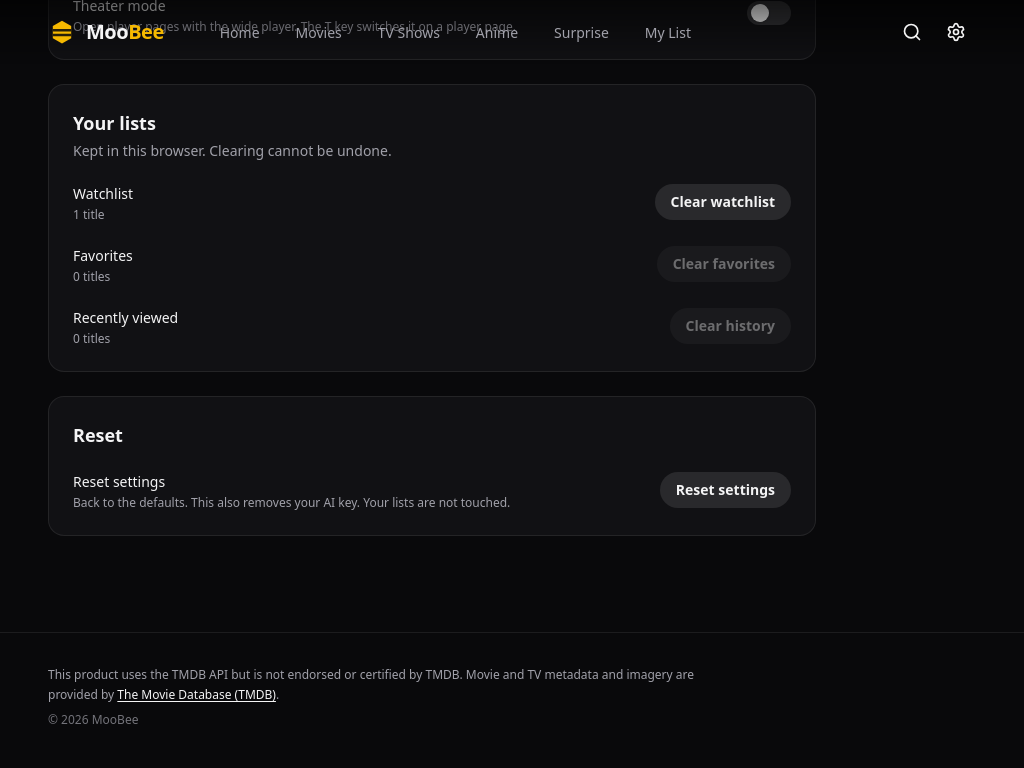
Scenario: Settings page › resets the settings, including the key, but not the lists
(page scrolled)
Click the button "Reset settings" at point(725, 490), box [660, 472, 791, 508]
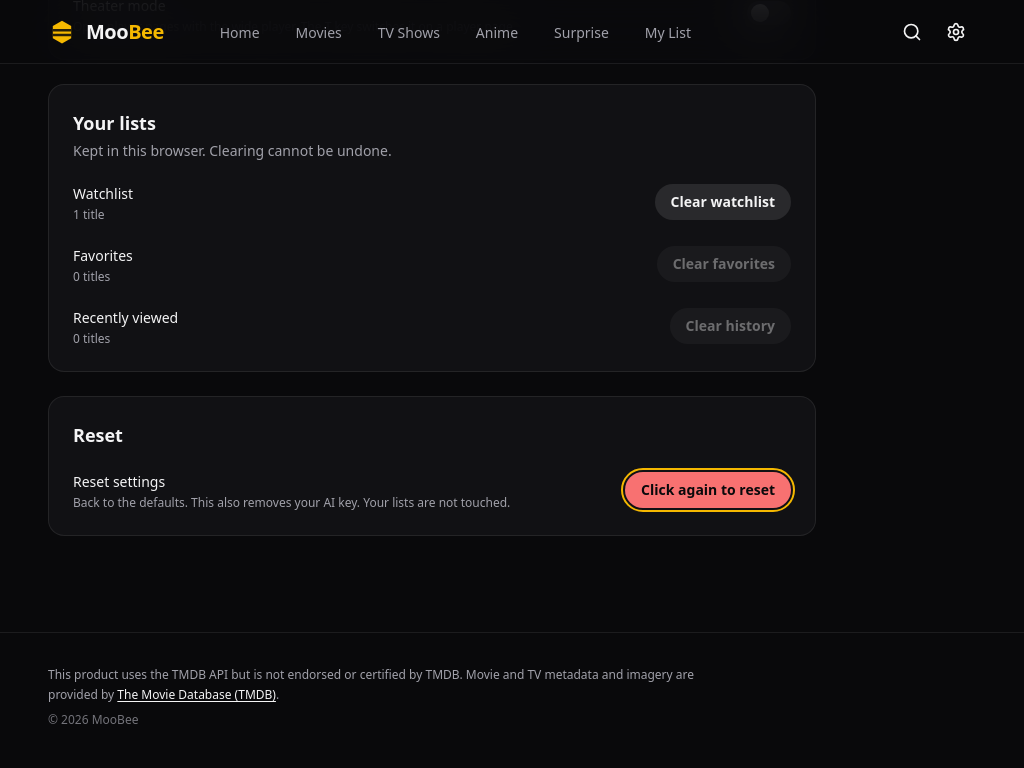
Click the button "Click again to reset" at point(708, 490), box [625, 472, 791, 508]
(page scrolled)
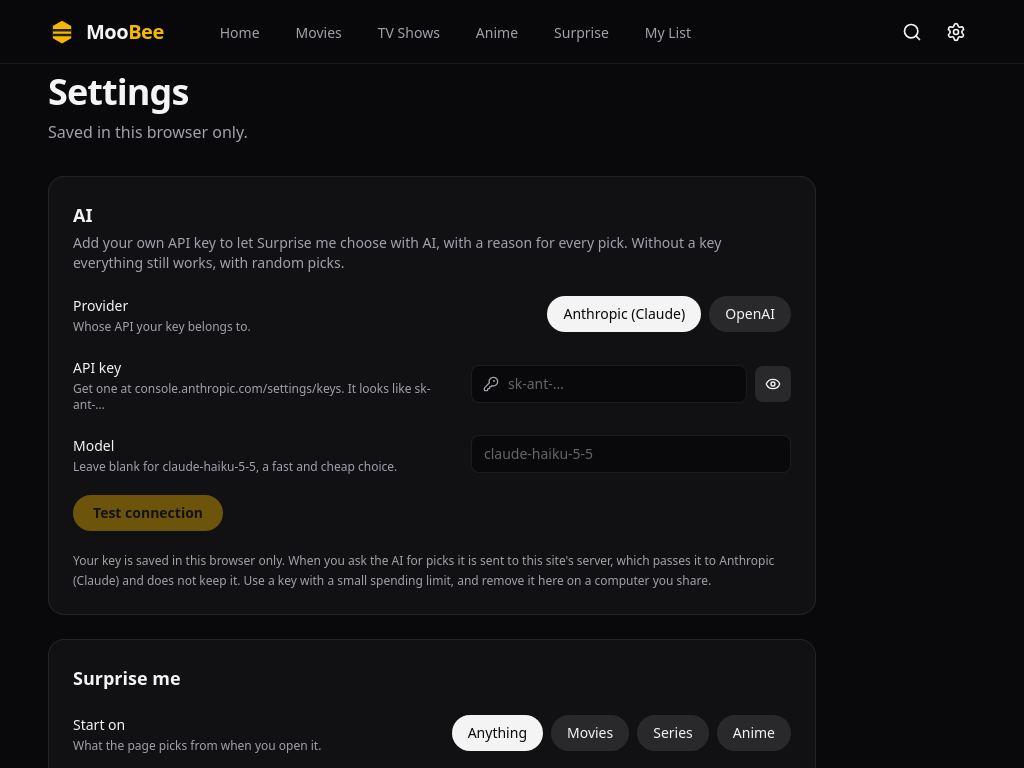
Check: the password field labelled "API key" is empty, box [471, 365, 747, 403]
